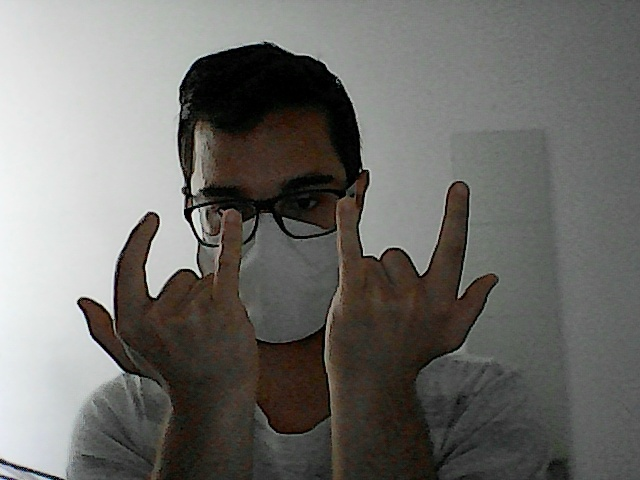shoot: (314, 172, 513, 375), (72, 200, 269, 403)
